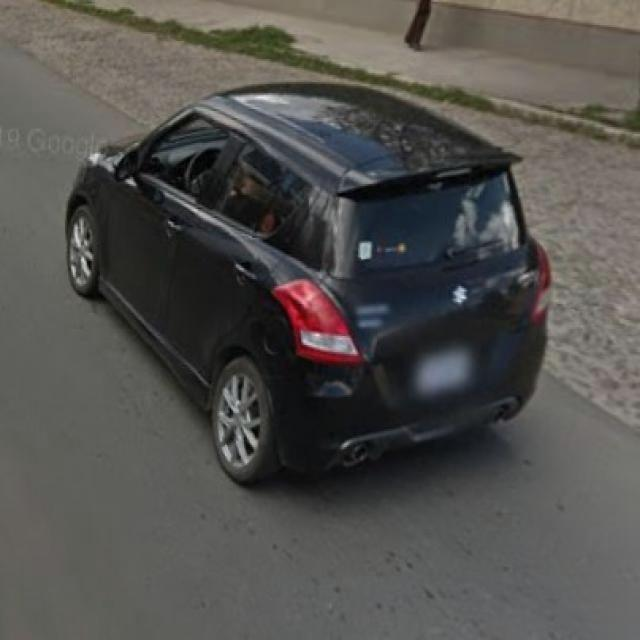Car: (54, 65, 552, 498)
